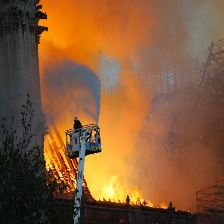fire: (91, 169, 189, 214)
smoke: (36, 1, 213, 160)
